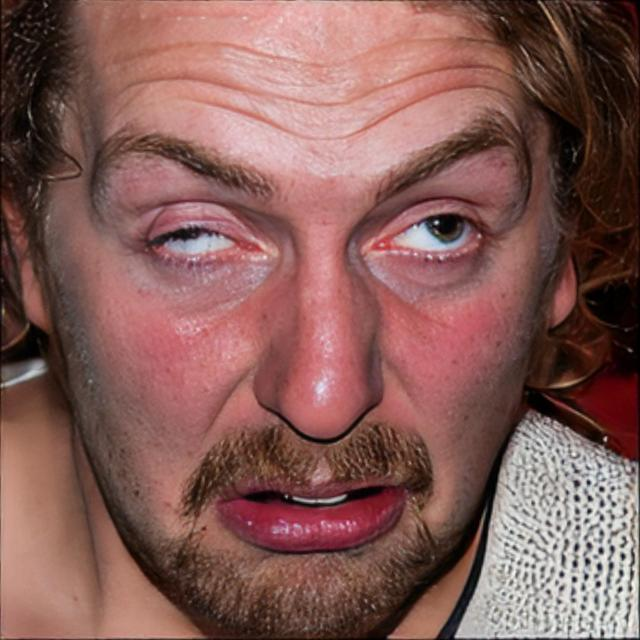disgust: (38, 0, 544, 640)
